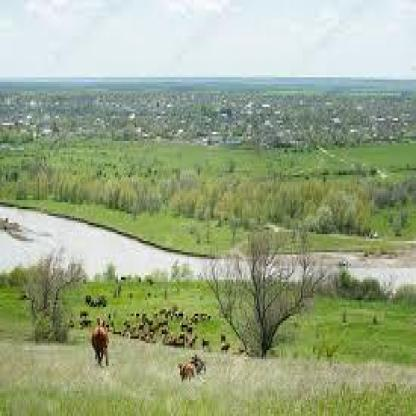cow: (90, 327, 110, 366), (188, 354, 206, 372), (178, 366, 197, 382)
